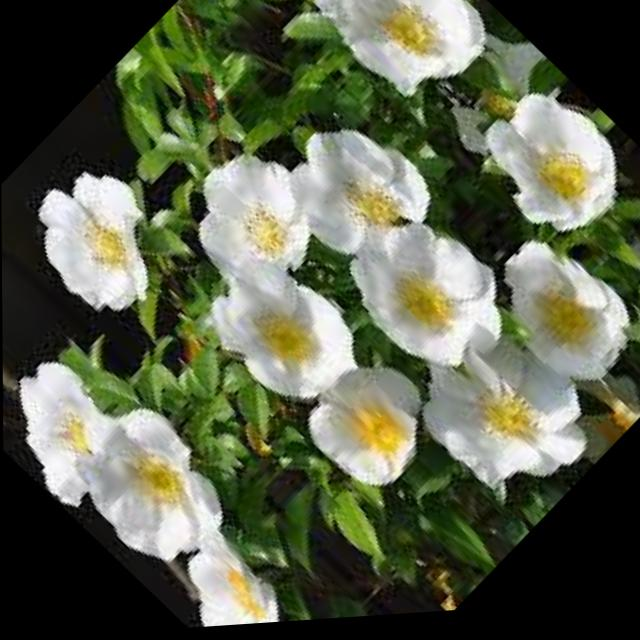Flower: (375, 278, 622, 535), (314, 176, 534, 408), (151, 110, 362, 332), (47, 374, 257, 595), (180, 229, 382, 441), (254, 90, 456, 302), (447, 65, 640, 281), (454, 216, 640, 426), (2, 132, 195, 334), (276, 325, 461, 519), (2, 335, 143, 509), (146, 504, 309, 633)
